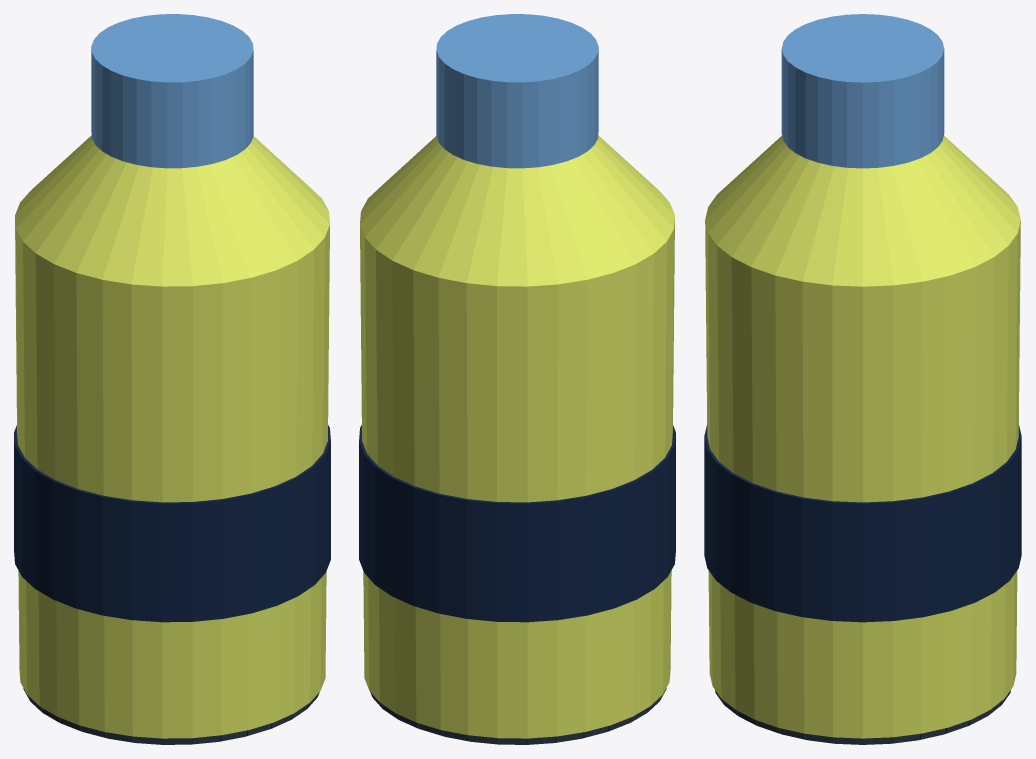
File: bottle.glb
The picture shows the model from 3 angles, left to right: view 1: azimuth 30°, elevation 25°; view 2: azimuth 150°, elevation 25°; view 3: azimuth 270°, elevation 25°; orthographic projection.
Parts seen in each view (by area): view 1: bottle body, grip band, shoulder, bottle cap; view 2: bottle body, grip band, shoulder, bottle cap; view 3: bottle body, grip band, shoulder, bottle cap.
Boxes of the visible parts, bbox=[...] form: bottle body: bbox=[15, 219, 329, 738]; grip band: bbox=[14, 425, 330, 622]; shoulder: bbox=[15, 135, 329, 286]; bottle cap: bbox=[91, 14, 253, 168]; bottle body: bbox=[360, 219, 674, 738]; grip band: bbox=[359, 425, 675, 622]; shoulder: bbox=[360, 135, 674, 286]; bottle cap: bbox=[436, 14, 598, 168]; bottle body: bbox=[705, 220, 1020, 738]; grip band: bbox=[704, 425, 1021, 622]; shoulder: bbox=[705, 136, 1020, 286]; bottle cap: bbox=[781, 14, 944, 168].
Bounding box in the file's own units: 0.704 × 1.55 × 0.704.
